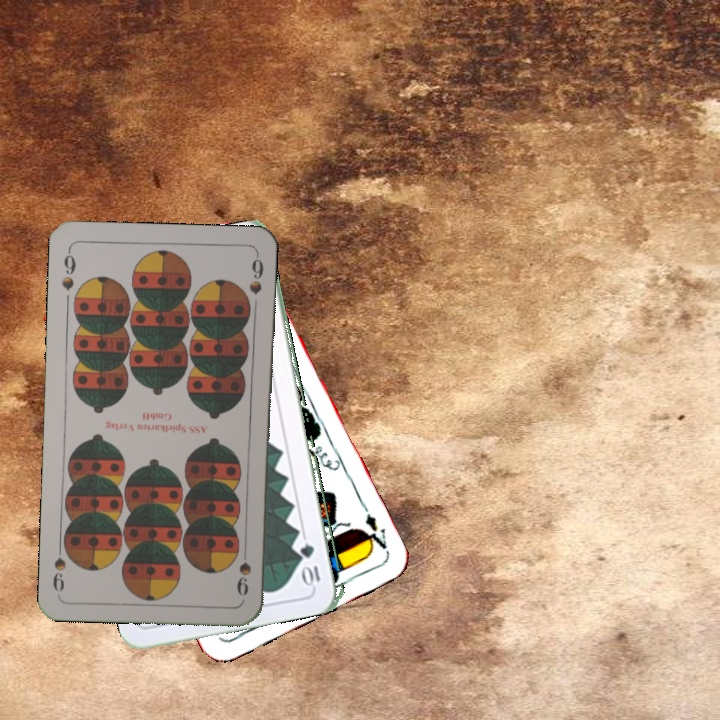EA: (358, 509, 390, 555)
G10: (299, 540, 323, 589)
S9: (233, 541, 254, 599), (58, 245, 78, 292)
